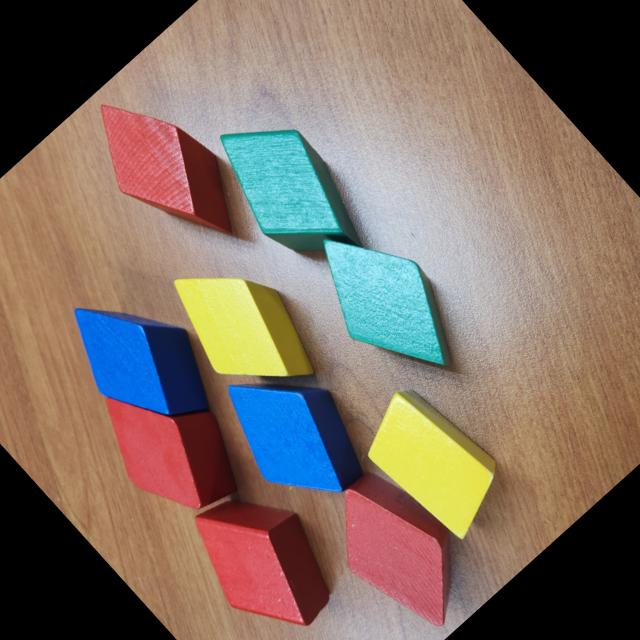blue: (47, 262, 237, 456), (200, 336, 388, 528)
green: (291, 203, 484, 402), (195, 93, 386, 290)
red: (70, 70, 276, 282), (306, 451, 497, 640), (79, 350, 262, 538), (170, 463, 358, 640)
yellow: (152, 233, 336, 423), (347, 375, 519, 552)
